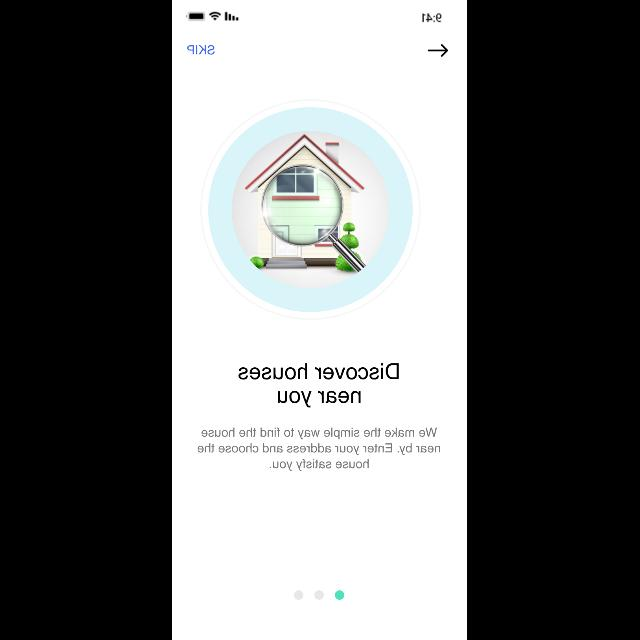icon: (429, 44, 449, 58)
image: (200, 100, 422, 320)
pageindicator: (294, 590, 346, 600)
text: (198, 427, 440, 471), (238, 362, 400, 408), (188, 45, 215, 55)
uppertaskbar: (185, 11, 442, 23)
